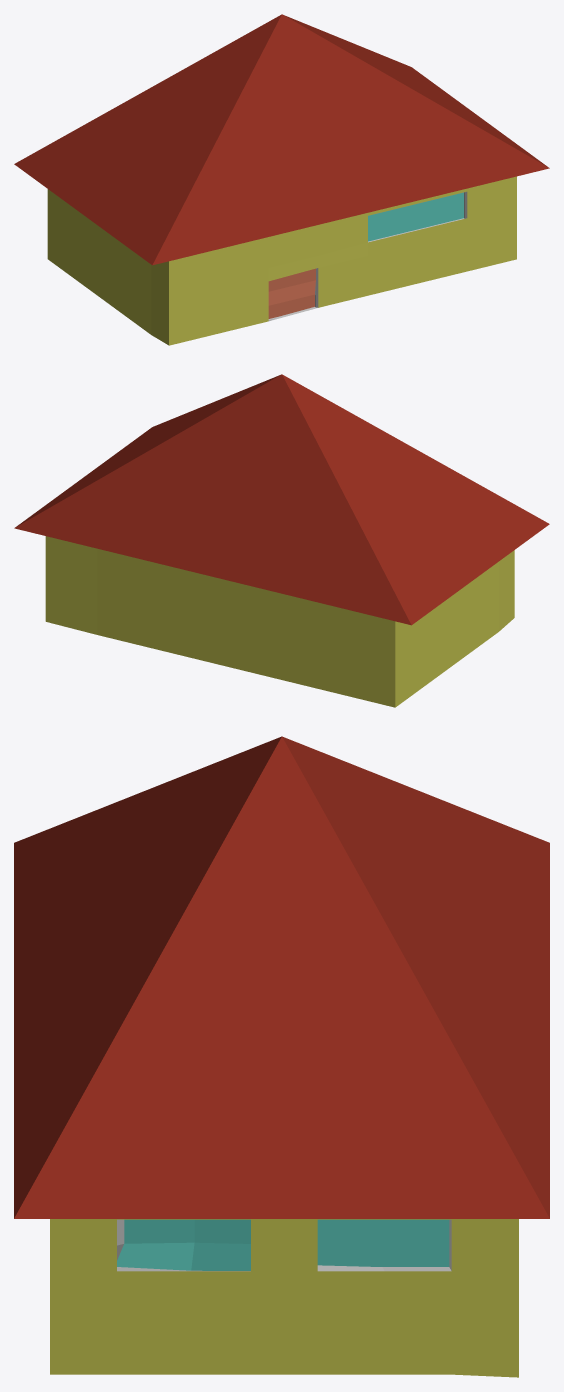
Rendered from HOUSE2.fbx.
3 renders of one model, top to bottom at view 1: azimuth 30°, elevation 25°; view 2: azimuth 150°, elevation 25°; view 3: azimuth 270°, elevation 25°, orthographic. The views are drawn at different scales.
Visible parts, largest first — view 1: Cube; view 2: Cube; view 3: Cube.
Boxes of the visible parts, <box> form: Cube: <box>14,14,549,345</box>; Cube: <box>14,374,549,707</box>; Cube: <box>14,736,549,1377</box>.
Bounding box in the file's own units: 986 × 585 × 594.
